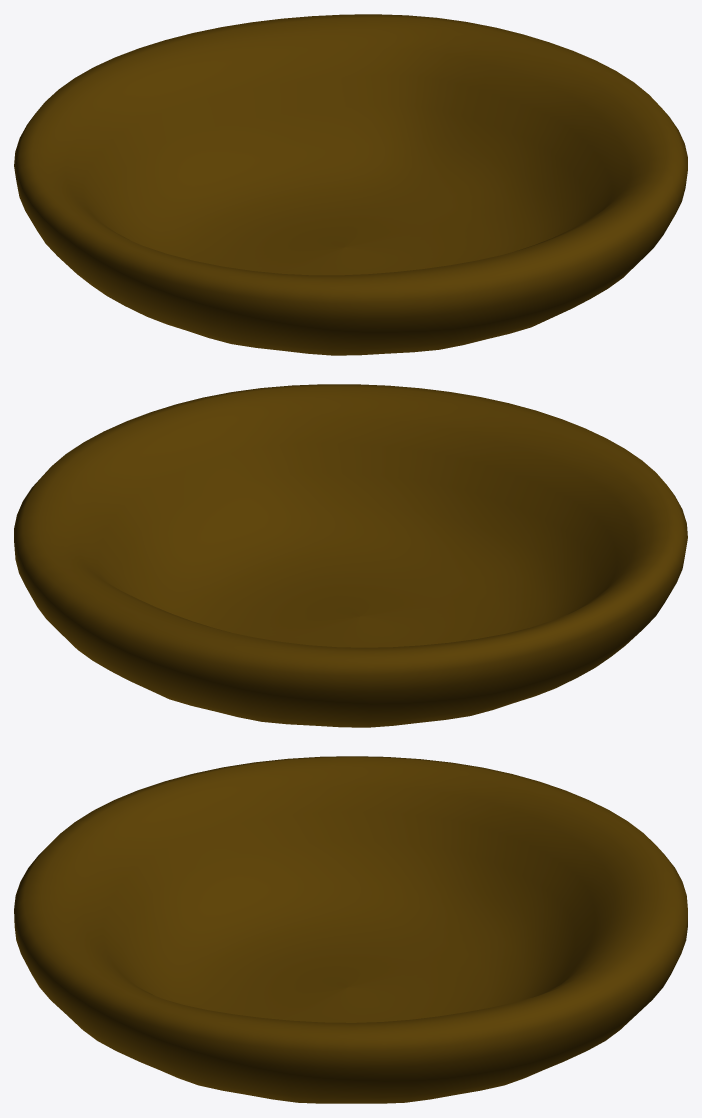
The model's file is nest fbx.fbx.
3 views of the same model, one above another, from view 1: azimuth 30°, elevation 25°; view 2: azimuth 150°, elevation 25°; view 3: azimuth 270°, elevation 25° (orthographic).
Visible parts, largest first — view 1: pCylinder1; view 2: pCylinder1; view 3: pCylinder1.
Boxes of the visible parts, x1,y1,x2,y2 form: pCylinder1: (14, 14, 687, 355); pCylinder1: (14, 384, 687, 727); pCylinder1: (14, 756, 687, 1103).
Bounding box in the file's own units: 2.23 × 0.4805 × 2.2.
